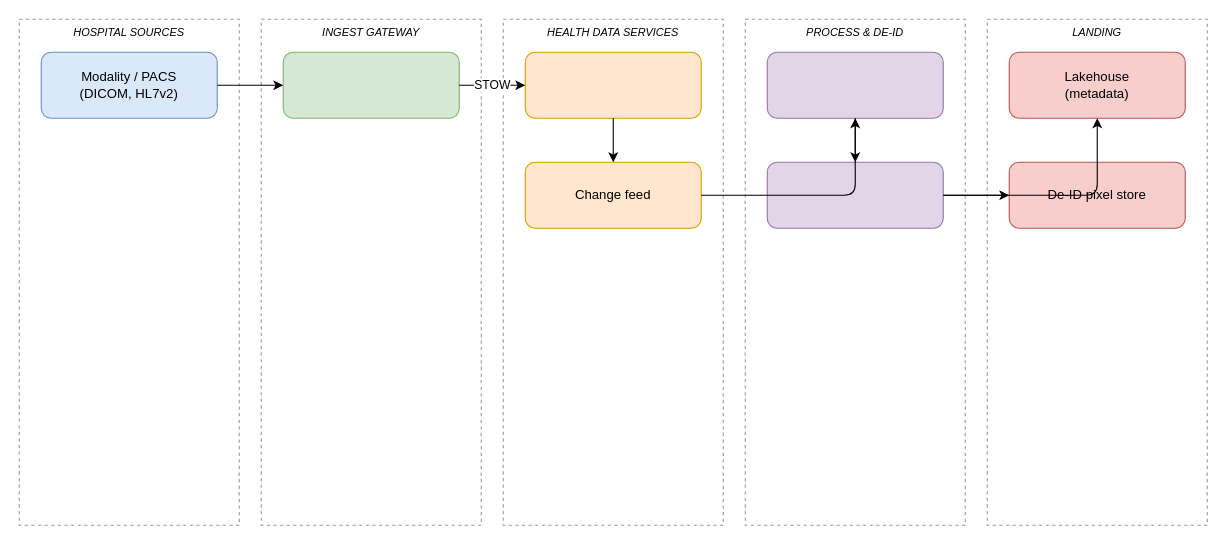
The diagram is 1227 pixels wide and 545 high, and some of its shapes have lost their labels. Here are the shapes that lost their labels. From the top down, the centre of each, then its label:
At point (370, 84): "DICOM gateway (STOW)".
At point (612, 84): "DICOM store".
At point (854, 84): "Ingest job (orchestration)".
At point (854, 194): "PHI / de-ID stage".
